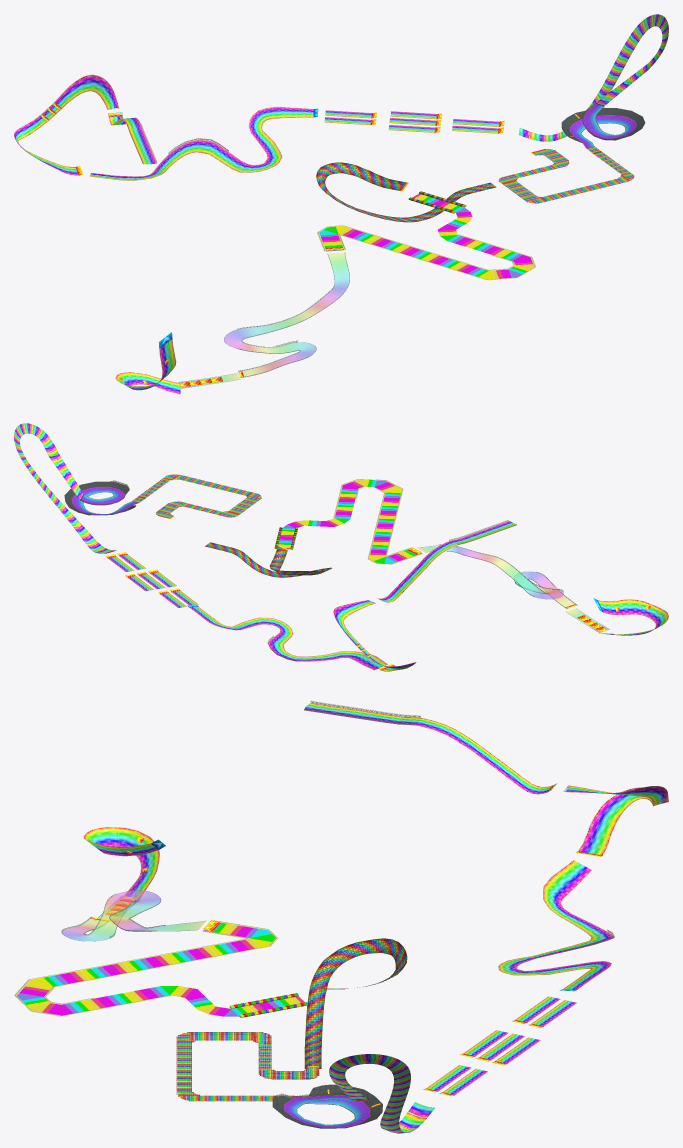
The model's file is rainbow_road_dxMODEL.glb.
3 renders of one model, top to bottom at view 1: azimuth 30°, elevation 25°; view 2: azimuth 150°, elevation 25°; view 3: azimuth 270°, elevation 25°, orthographic. The views are drawn at different scales.
Visible parts, largest first — view 1: mesh_mdl_DSroad3ds, mesh_mdl_GBAroad1, mesh_mdl_GCNroad1, mesh_mdl_Wiiroad1, mesh_mdl_MK7road1, mesh_mdl_N64road1, mesh_mdl_SFCroad1, mesh_mdl_MK8road3, mesh_mdl_DSroad1, mesh_mdl_BBKKBKK1, mesh_mdl_dash1, mesh_mdl_MK8road2 (+1 smaller); view 2: mesh_mdl_DSroad3ds, mesh_mdl_GBAroad1, mesh_mdl_Wiiroad1, mesh_mdl_MK7road1, mesh_mdl_GCNroad1, mesh_mdl_SFCroad1, mesh_mdl_DSroad1, mesh_mdl_N64road1, mesh_mdl_MK8road3, mesh_mdl_dash1, mesh_mdl_BBKKBKK1, mesh_mdl_MK8road2; view 3: mesh_mdl_GBAroad1, mesh_mdl_DSroad3ds, mesh_mdl_Wiiroad1, mesh_mdl_N64road1, mesh_mdl_SFCroad1, mesh_mdl_MK7road1, mesh_mdl_GCNroad1, mesh_mdl_DSroad1, mesh_mdl_MK8road3, mesh_mdl_BBKKBKK1, mesh_mdl_MK8road2, mesh_mdl_dash1.
Part boxes in pixels (box(x1,y1,x2,y2)): mesh_mdl_DSroad3ds: box(90, 106, 499, 180); mesh_mdl_GBAroad1: box(319, 193, 534, 279); mesh_mdl_GCNroad1: box(179, 252, 349, 388); mesh_mdl_Wiiroad1: box(14, 74, 156, 175); mesh_mdl_MK7road1: box(518, 14, 668, 141); mesh_mdl_N64road1: box(316, 162, 496, 222); mesh_mdl_SFCroad1: box(499, 146, 633, 203); mesh_mdl_MK8road3: box(569, 104, 637, 148); mesh_mdl_DSroad1: box(115, 339, 180, 394); mesh_mdl_BBKKBKK1: box(317, 225, 536, 280); mesh_mdl_dash1: box(40, 102, 579, 387); mesh_mdl_MK8road2: box(561, 103, 645, 142); mesh_mdl_DSroad3ds: box(108, 555, 387, 670); mesh_mdl_GBAroad1: box(278, 479, 421, 563); mesh_mdl_Wiiroad1: box(333, 521, 516, 671); mesh_mdl_MK7road1: box(14, 423, 116, 553); mesh_mdl_GCNroad1: box(416, 545, 609, 632); mesh_mdl_SFCroad1: box(132, 474, 261, 518); mesh_mdl_DSroad1: box(598, 599, 668, 635); mesh_mdl_N64road1: box(205, 542, 331, 577); mesh_mdl_MK8road3: box(71, 486, 138, 515); mesh_mdl_dash1: box(90, 509, 651, 670); mesh_mdl_BBKKBKK1: box(333, 479, 422, 564); mesh_mdl_MK8road2: box(64, 481, 136, 515); mesh_mdl_GBAroad1: box(17, 923, 304, 1016); mesh_mdl_DSroad3ds: box(426, 860, 614, 1094); mesh_mdl_Wiiroad1: box(304, 703, 668, 855); mesh_mdl_N64road1: box(304, 938, 407, 1068); mesh_mdl_SFCroad1: box(177, 1032, 318, 1100); mesh_mdl_MK7road1: box(329, 1054, 434, 1133); mesh_mdl_GCNroad1: box(62, 890, 205, 941); mesh_mdl_DSroad1: box(83, 826, 159, 901); mesh_mdl_MK8road3: box(283, 1094, 370, 1128); mesh_mdl_BBKKBKK1: box(14, 920, 278, 1016); mesh_mdl_MK8road2: box(272, 1084, 382, 1128); mesh_mdl_dash1: box(89, 783, 668, 1107).
Bounding box in the file's own units: 145 × 37.18 × 97.91.
21 materials, 21 textured.
